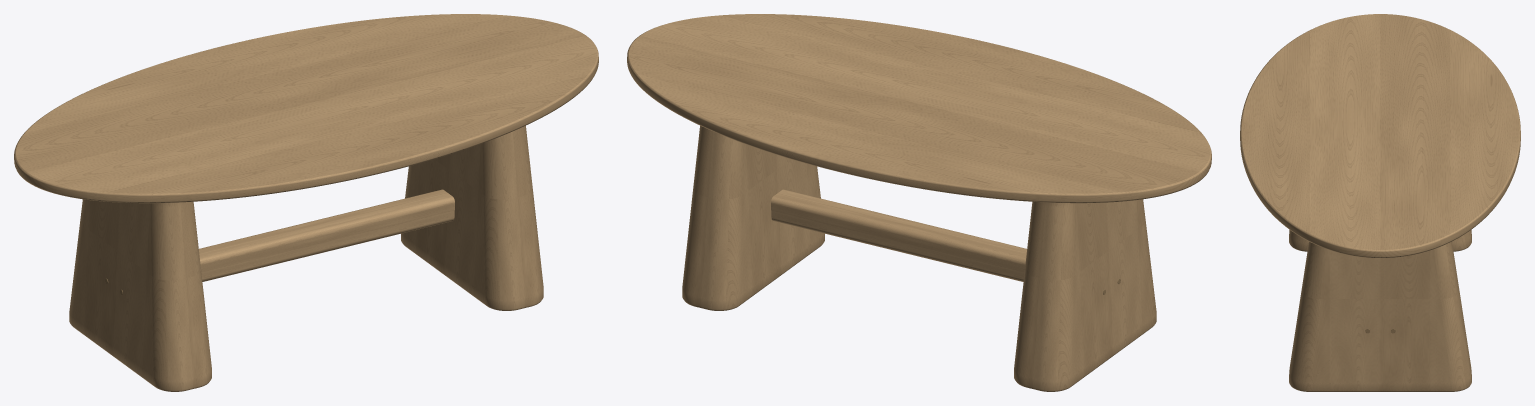
3 views of the same model, side by side, from view 1: azimuth 30°, elevation 25°; view 2: azimuth 150°, elevation 25°; view 3: azimuth 270°, elevation 25° (orthographic). The views are drawn at different scales.
Visible parts, largest first — view 1: Solid oval oak top | 2100 x 1050 x 35 mm, Left sculpted oak trestle, Right sculpted oak trestle, Solid oak lower stretcher; view 2: Solid oval oak top | 2100 x 1050 x 35 mm, Left sculpted oak trestle, Right sculpted oak trestle, Solid oak lower stretcher; view 3: Solid oval oak top | 2100 x 1050 x 35 mm, Right sculpted oak trestle, Left sculpted oak trestle.
Part boxes in pixels (x1=…): Solid oval oak top | 2100 x 1050 x 35 mm: x1=14, y1=14, x2=598, y2=203; Left sculpted oak trestle: x1=69, y1=199, x2=211, y2=391; Right sculpted oak trestle: x1=401, y1=125, x2=543, y2=310; Solid oak lower stretcher: x1=199, y1=189, x2=454, y2=281; Solid oval oak top | 2100 x 1050 x 35 mm: x1=627, y1=14, x2=1211, y2=203; Left sculpted oak trestle: x1=1014, y1=199, x2=1156, y2=391; Right sculpted oak trestle: x1=682, y1=125, x2=824, y2=310; Solid oak lower stretcher: x1=771, y1=189, x2=1026, y2=281; Solid oval oak top | 2100 x 1050 x 35 mm: x1=1240, y1=14, x2=1520, y2=257; Right sculpted oak trestle: x1=1289, y1=241, x2=1471, y2=391; Left sculpted oak trestle: x1=1289, y1=229, x2=1471, y2=251.
Bounding box in the file's own units: 2.1 × 0.75 × 1.05.
Materials: 6 (2 with a texture image).
